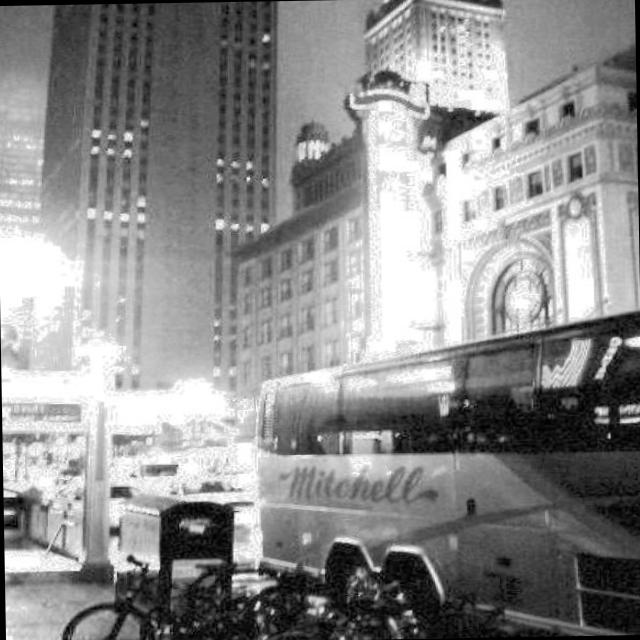Bicycle: (59, 550, 288, 640)
Bus: (210, 291, 640, 640)
